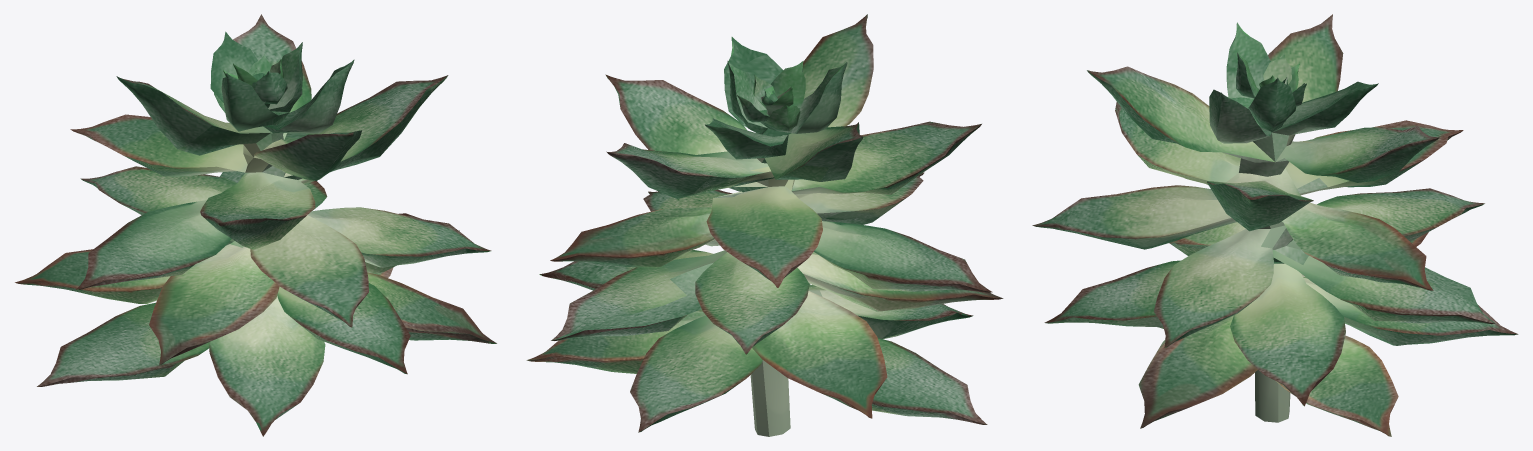
Rendered from suculenta.glb.
The picture shows the model from 3 angles, left to right: view 1: azimuth 30°, elevation 25°; view 2: azimuth 150°, elevation 25°; view 3: azimuth 270°, elevation 25°; orthographic projection. The views are drawn at different scales.
Visible parts, largest first — view 1: Mesh_3, Mesh_0; view 2: Mesh_3; view 3: Mesh_3, Mesh_0.
Part boxes in pixels (box(x1,y1,x2,y2)): Mesh_3: box(15, 14, 496, 436); Mesh_0: box(243, 113, 288, 177); Mesh_3: box(526, 14, 1003, 436); Mesh_3: box(1032, 14, 1518, 436); Mesh_0: box(1239, 126, 1295, 263).
Size of the model in its own units: 7.68 by 6.14 by 7.4.
1 material, 1 textured.
